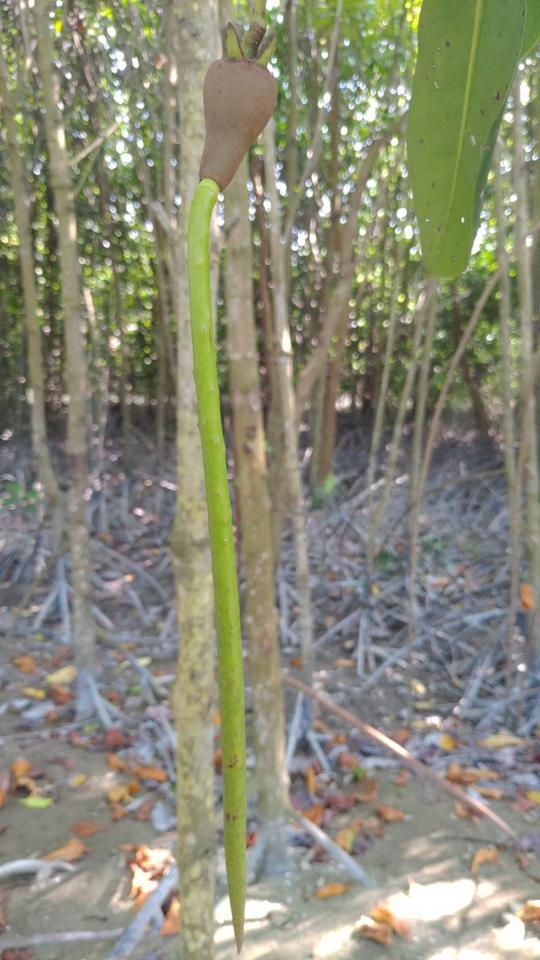setengah matang: (162, 19, 293, 951)
